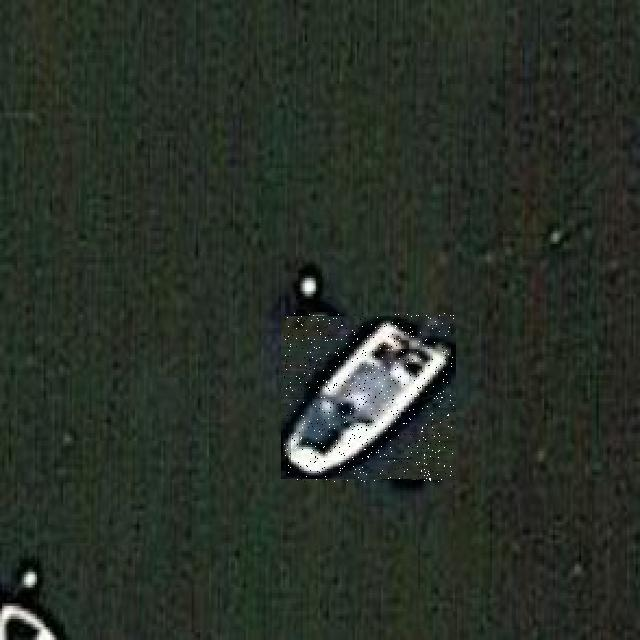boat: (284, 313, 454, 482)
